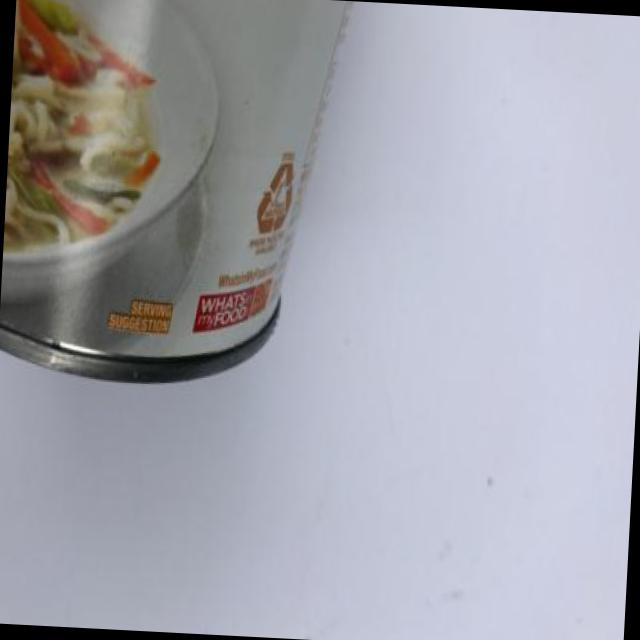kim_loai: (0, 0, 348, 383)
